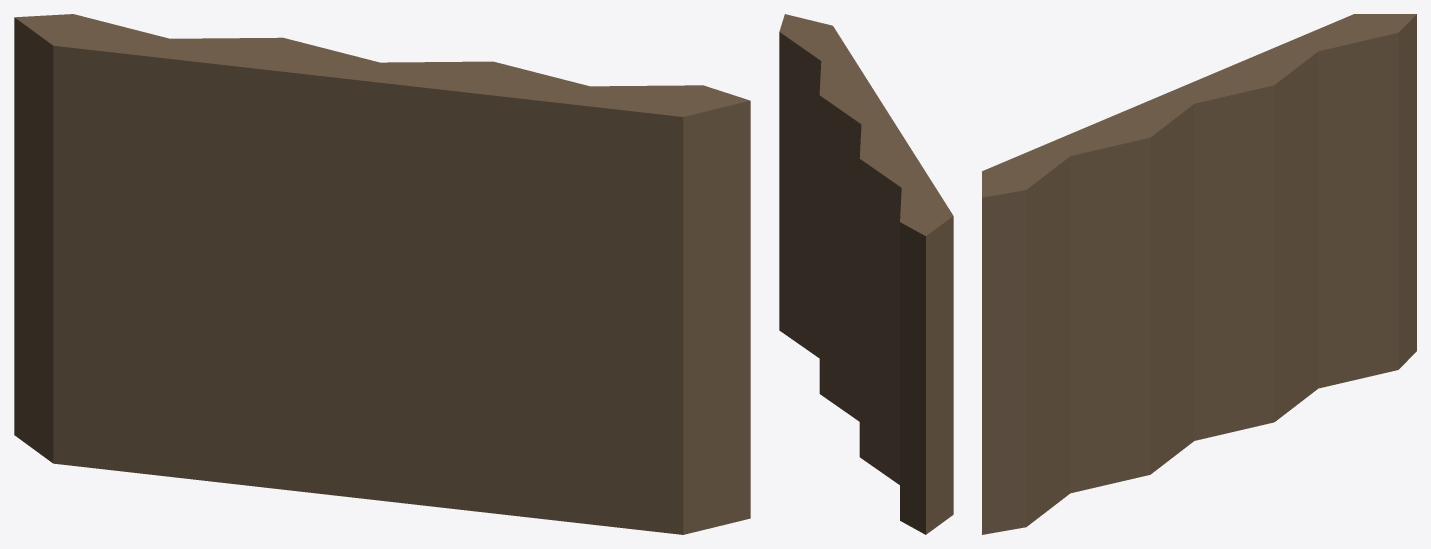
Rendered from cliff_diagonal_rock.glb.
3 views of the same model, side by side, from view 1: azimuth 30°, elevation 25°; view 2: azimuth 150°, elevation 25°; view 3: azimuth 270°, elevation 25° (orthographic). The views are drawn at different scales.
Parts seen in each view (by area): view 1: cliff_diagonal_rock; view 2: cliff_diagonal_rock; view 3: cliff_diagonal_rock.
Part boxes in pixels (bbox=[...]): cliff_diagonal_rock: bbox=[14, 14, 750, 534]; cliff_diagonal_rock: bbox=[779, 14, 953, 534]; cliff_diagonal_rock: bbox=[982, 14, 1416, 534].
Bounding box in the file's own units: 1.17 × 1 × 1.17.
